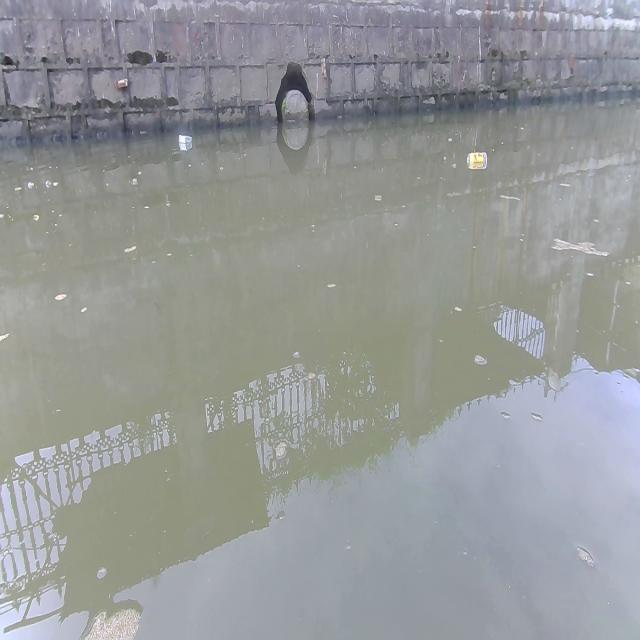bottle: (466, 149, 488, 168), (175, 135, 193, 150)
